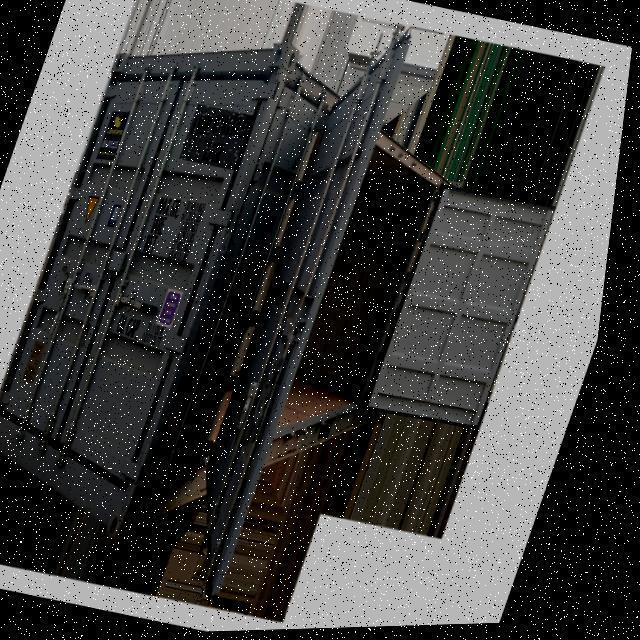container_number_h: (181, 104, 258, 173)
